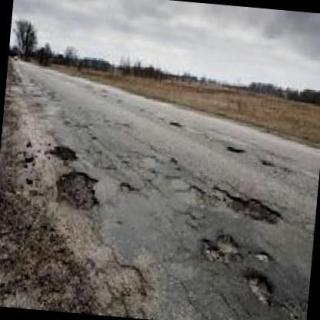pothole: (218, 190, 284, 225), (57, 170, 99, 215), (202, 235, 239, 262), (245, 271, 272, 306), (49, 146, 78, 167)
